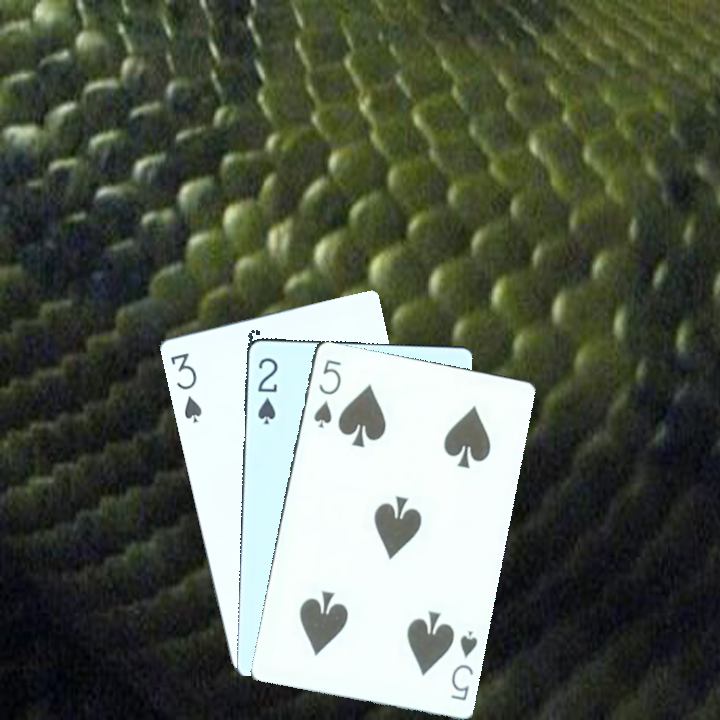2s: (254, 354, 280, 423)
3s: (166, 349, 205, 424)
5s: (309, 356, 344, 431), (447, 627, 480, 703)
